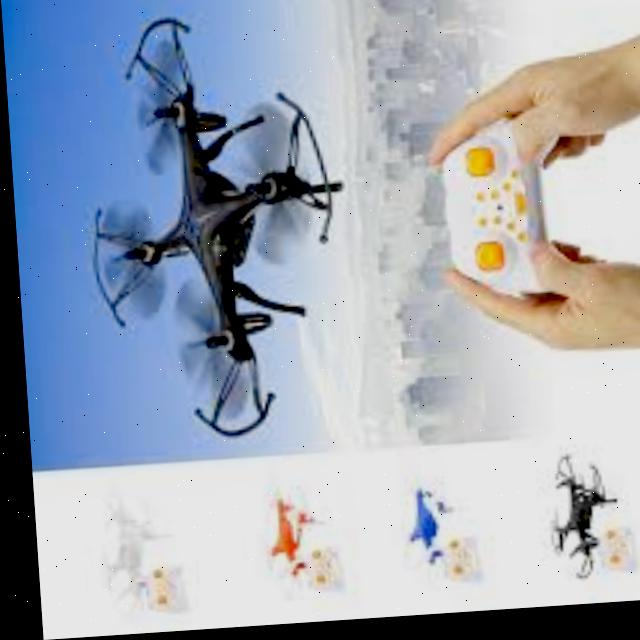drone: (74, 0, 345, 449), (524, 463, 614, 593), (87, 490, 161, 602), (242, 497, 316, 583), (382, 489, 447, 573)
